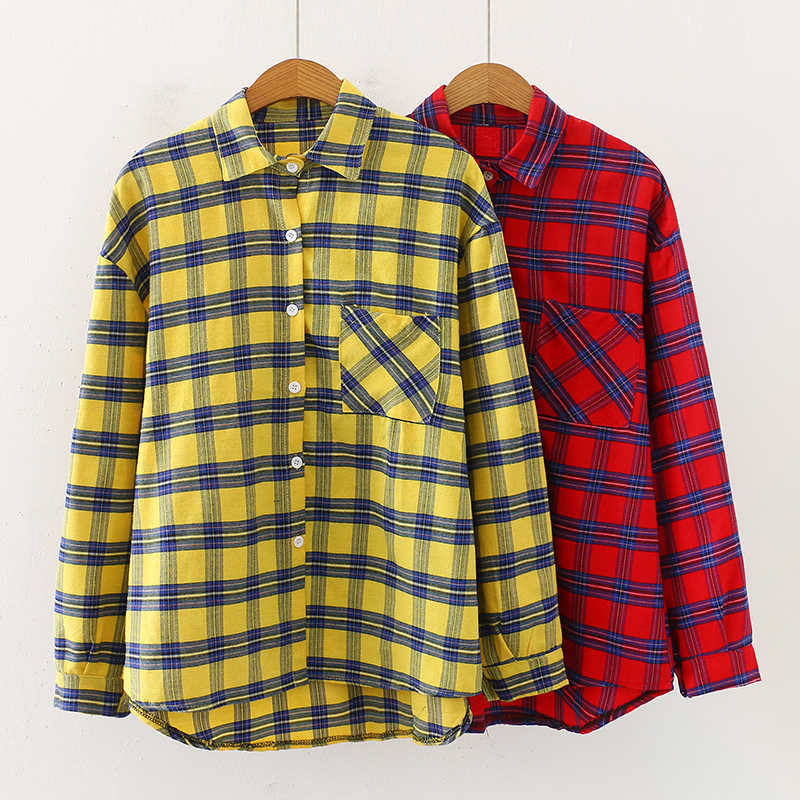squared: (50, 67, 569, 758), (398, 67, 773, 742)
